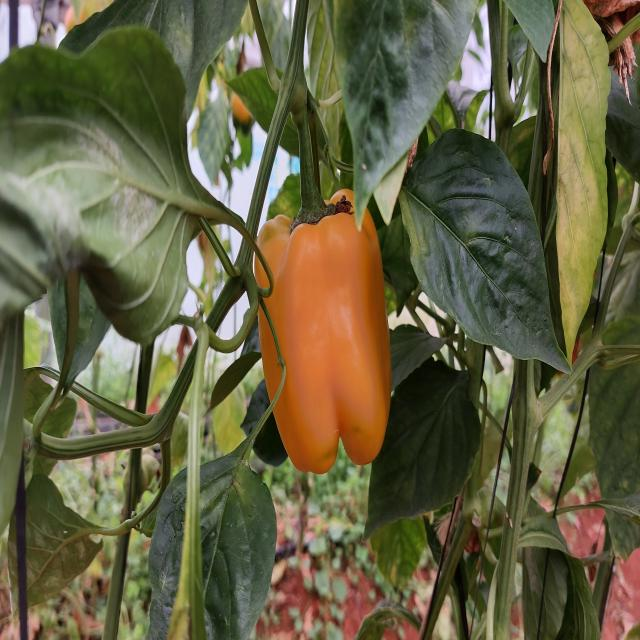Yellow-Ready-to-Harvest: (251, 186, 392, 477)
